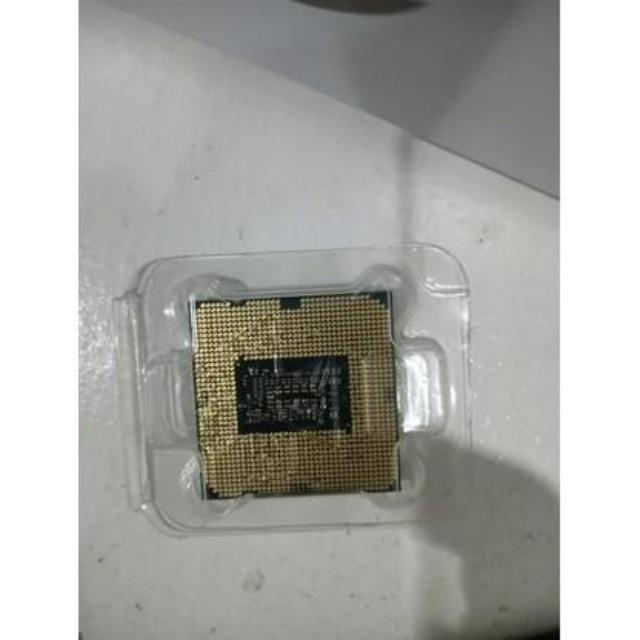CPU: (187, 288, 407, 498)
